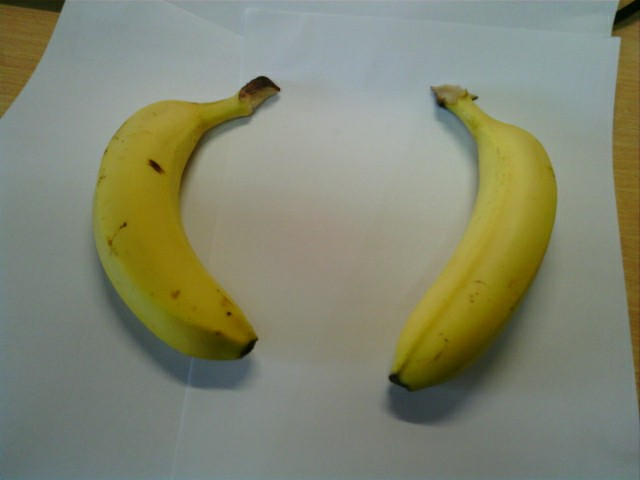fresh_banana: (384, 88, 557, 397)
normal_banana: (93, 80, 262, 362)
